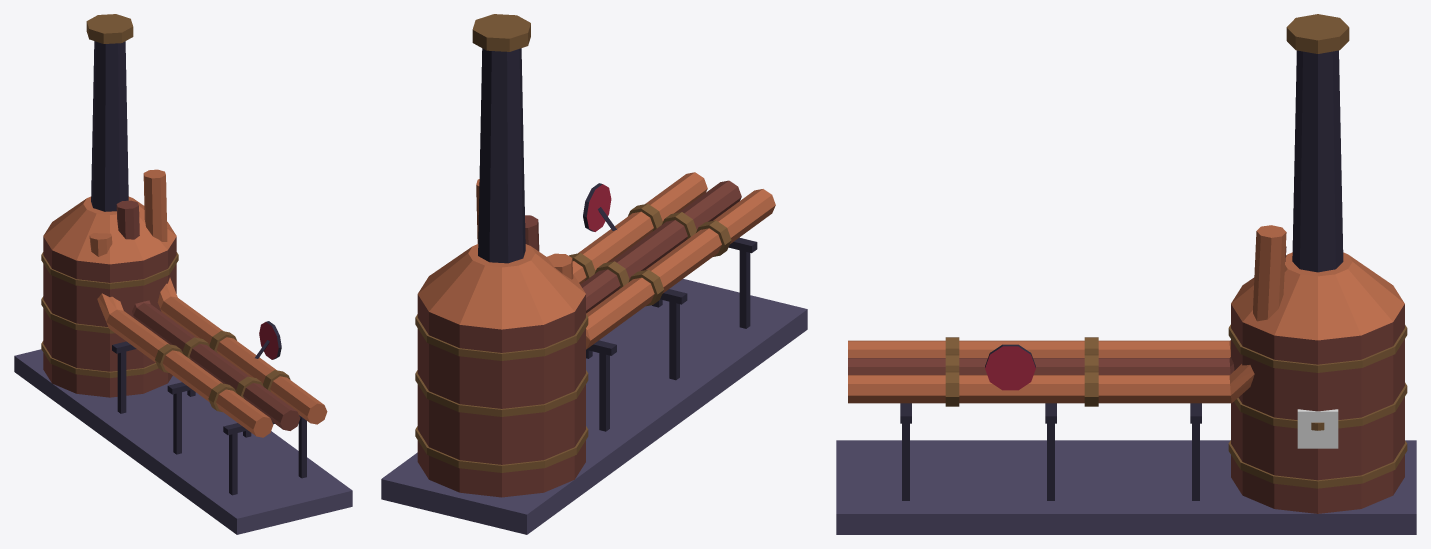
The model's file is Fair_Pipes.fbx.
3 renders of one model, left to right at view 1: azimuth 30°, elevation 25°; view 2: azimuth 150°, elevation 25°; view 3: azimuth 270°, elevation 25°, orthographic. The views are drawn at different scales.
Parts seen in each view (by area): view 1: Fair_Pipes; view 2: Fair_Pipes; view 3: Fair_Pipes.
Boxes of the visible parts, x1=… form: Fair_Pipes: x1=14, y1=14, x2=352, y2=534; Fair_Pipes: x1=381, y1=14, x2=807, y2=534; Fair_Pipes: x1=836, y1=14, x2=1416, y2=534.
Size of what is drawn, in the model's own units: 3.08 by 8.96 by 10.
Materials: 2 (1 with a texture image).
